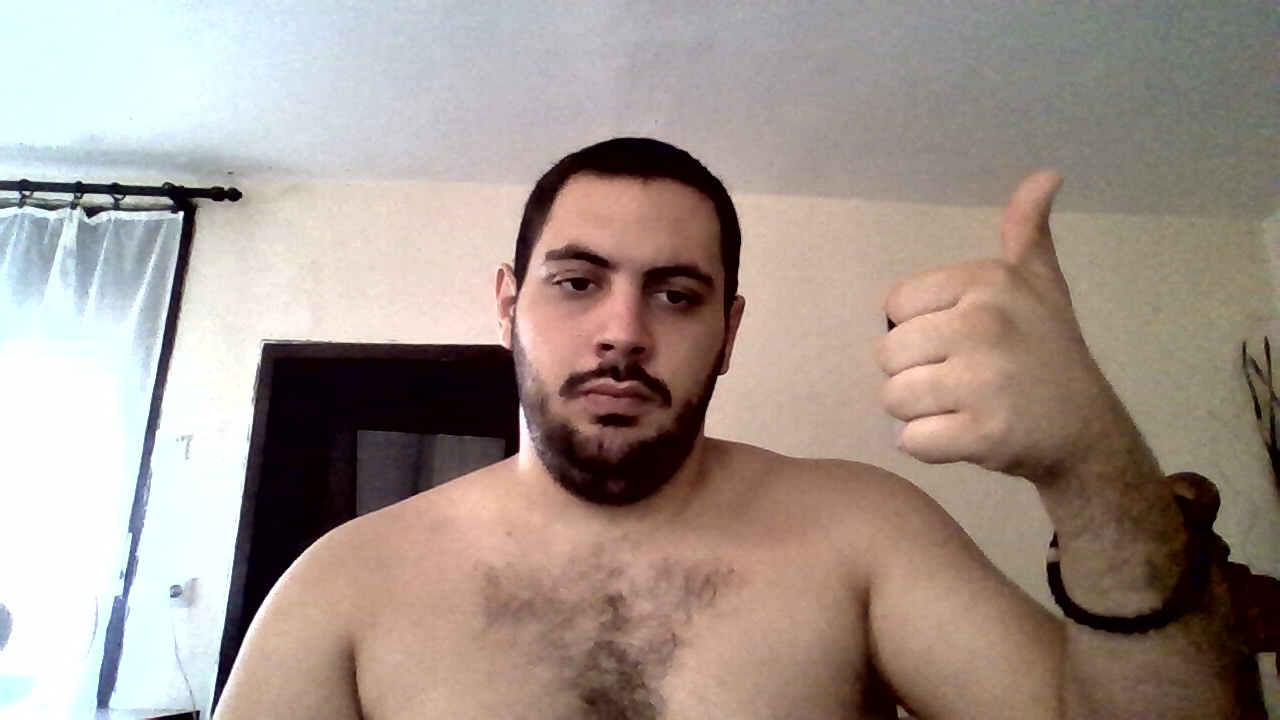like: (877, 169, 1096, 469)
